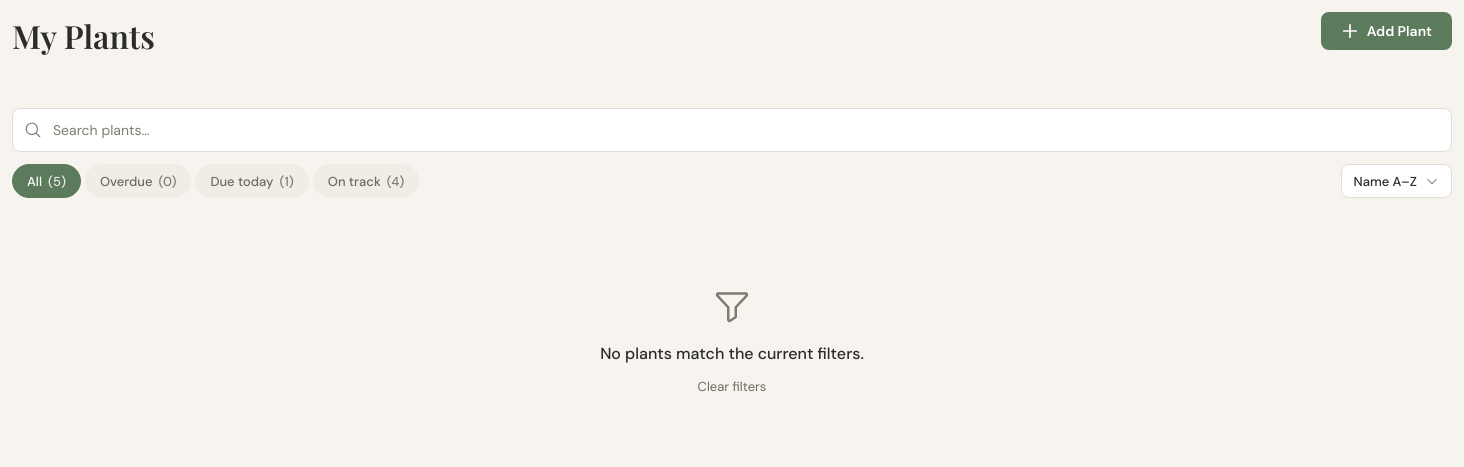
Scenario: InventoryPage — empty states (SPEC §5) › §5b — filter-only empty state ("No overdue plants.") with Clear filters
Click the radio button with aria-label "Overdue plants, 0 results": [138, 181] box [85, 164, 191, 198]
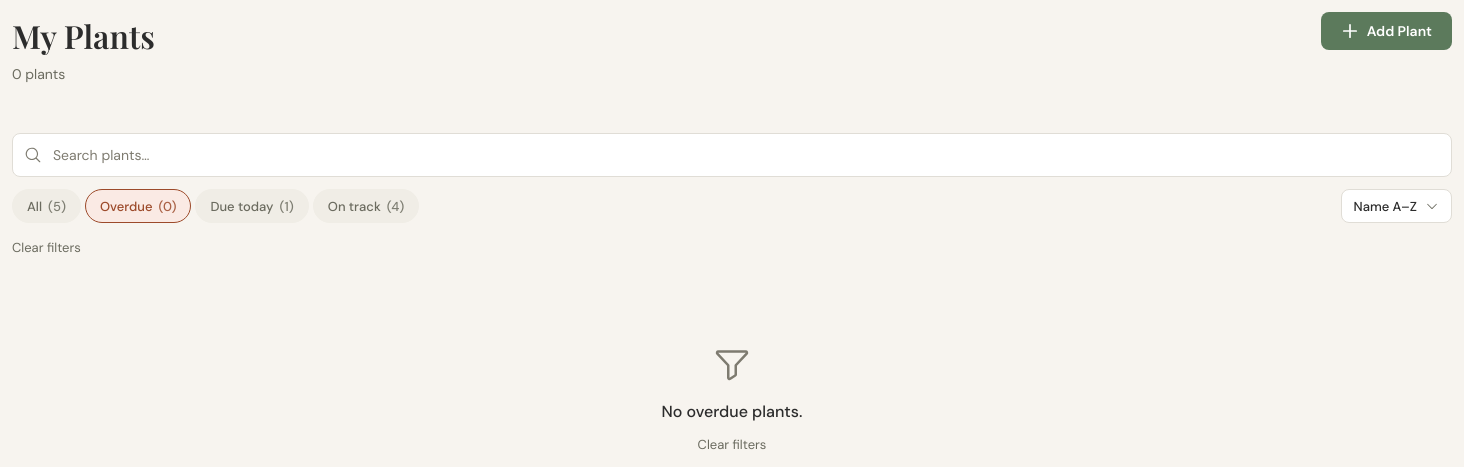
Now the text "No overdue plants." is shown, box [662, 400, 802, 424]
